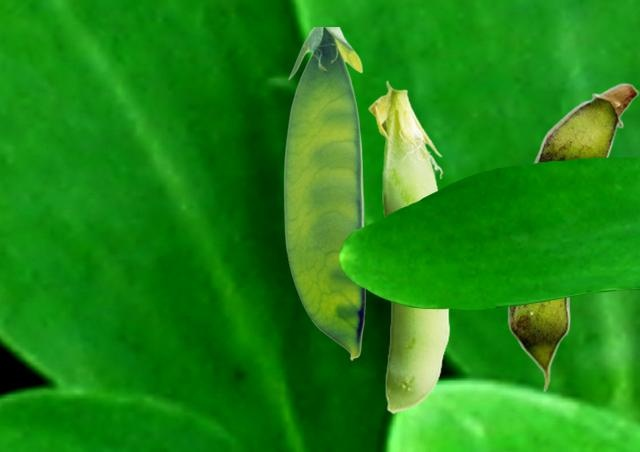pea: (507, 82, 638, 391), (283, 27, 364, 359), (368, 80, 449, 412)
